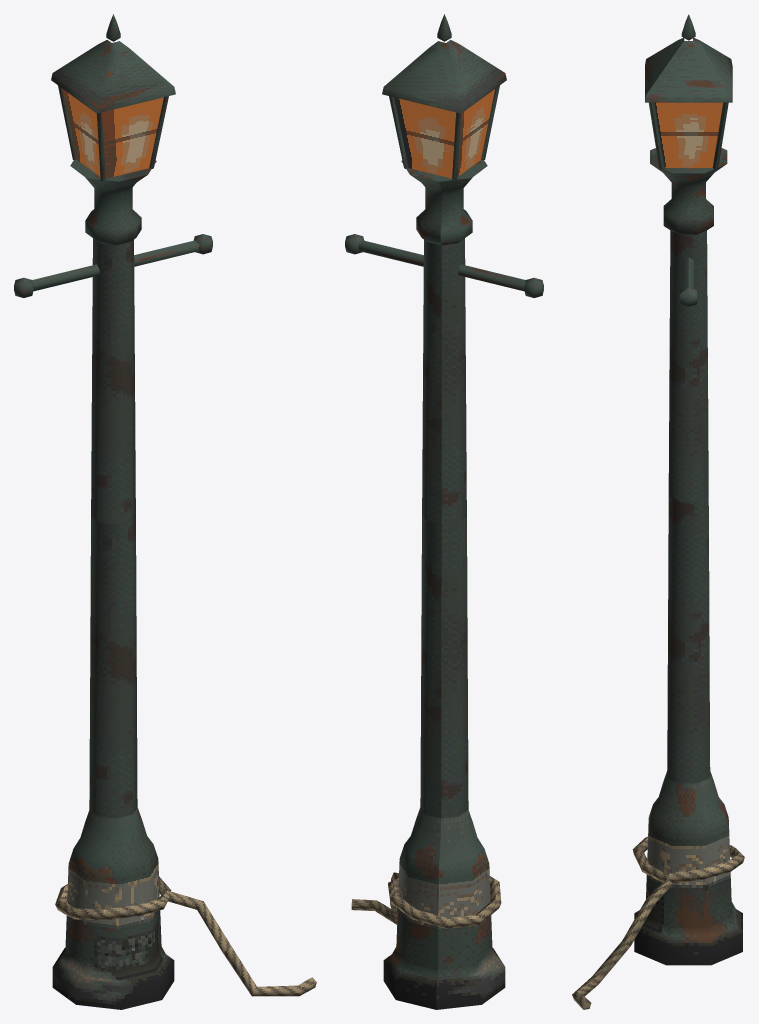
The model's file is lamp_post_harbour.glb.
The picture shows the model from 3 angles, left to right: view 1: azimuth 30°, elevation 25°; view 2: azimuth 150°, elevation 25°; view 3: azimuth 270°, elevation 25°; orthographic projection. The views are drawn at different scales.
Parts seen in each view (by area): view 1: lamp_post_harbour; view 2: lamp_post_harbour; view 3: lamp_post_harbour.
Boxes of the visible parts, x1=… form: lamp_post_harbour: x1=14, y1=14, x2=316, y2=1009; lamp_post_harbour: x1=345, y1=14, x2=543, y2=1009; lamp_post_harbour: x1=572, y1=14, x2=744, y2=1009.
Size of the model in its own units: 0.8817 by 3.31 by 0.5588.
2 materials, 2 textured.
